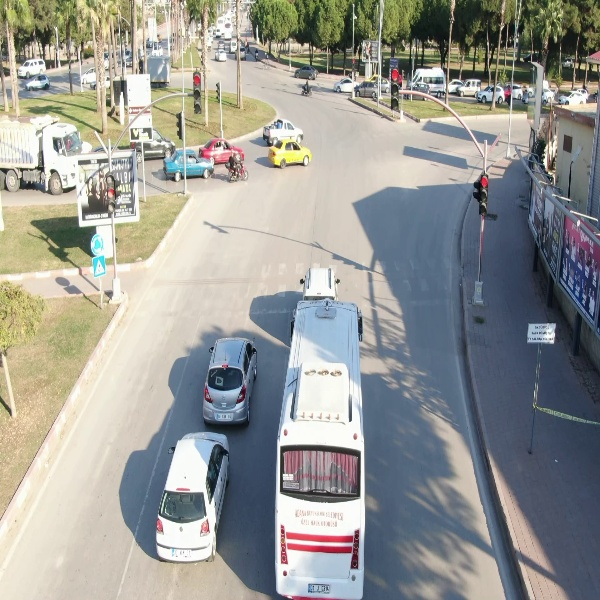car: (153, 429, 234, 564), (200, 335, 261, 427), (161, 146, 217, 184), (268, 138, 312, 168), (476, 84, 507, 104), (23, 72, 51, 93), (292, 63, 319, 83), (559, 88, 588, 106)
